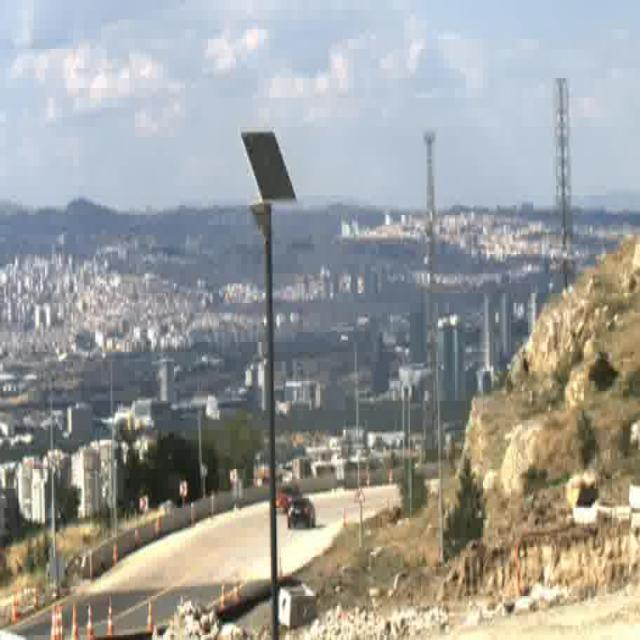Car: (288, 500, 316, 530), (276, 484, 299, 511)
